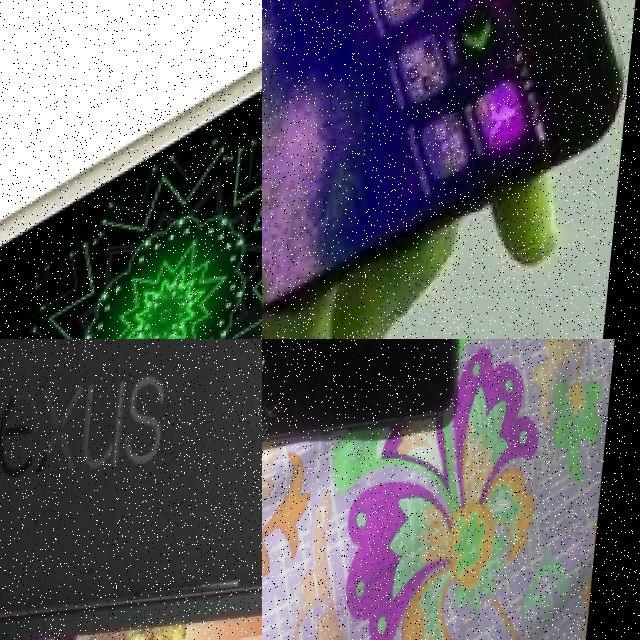screen crack: (262, 339, 320, 519)
